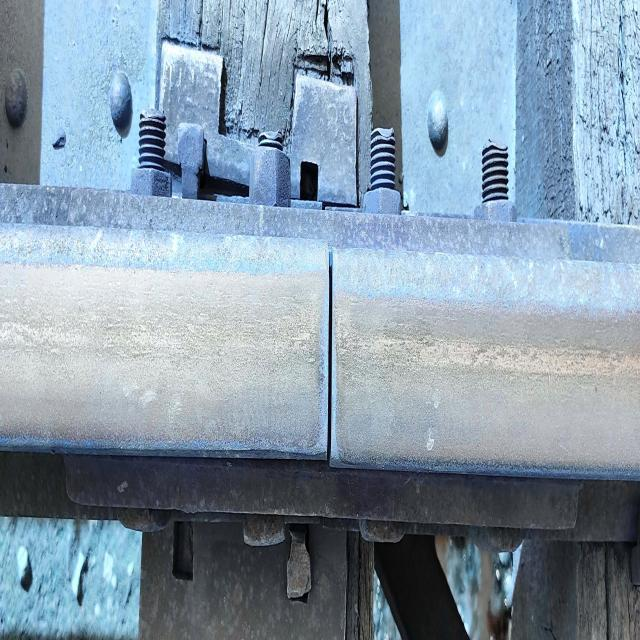Good Joint: (37, 161, 593, 571)
Missing Dogscrew: (300, 162, 318, 200)
